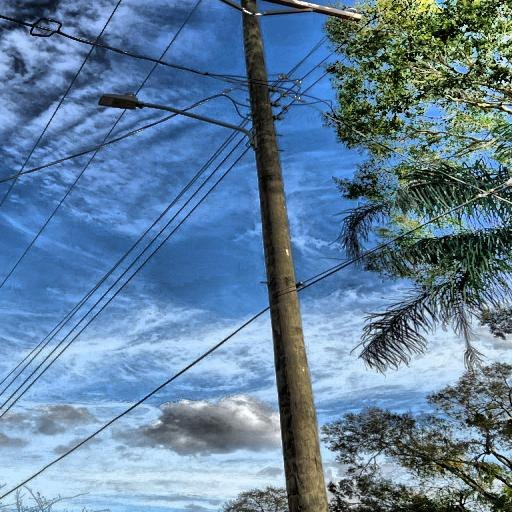pole: (233, 0, 377, 512)
street light: (86, 89, 270, 144)
